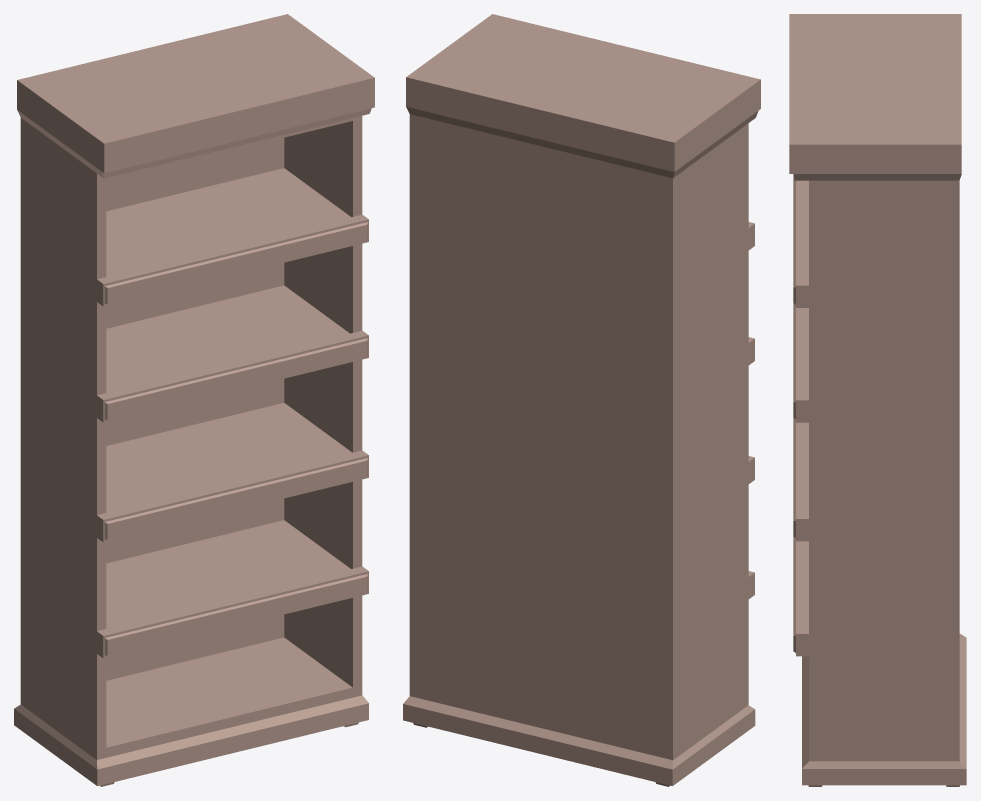
The model's file is bookcase_02.gltf.
3 views of the same model, side by side, from view 1: azimuth 30°, elevation 25°; view 2: azimuth 150°, elevation 25°; view 3: azimuth 270°, elevation 25° (orthographic).
Visible parts, largest first — view 1: node-0; view 2: node-0; view 3: node-0.
Boxes of the visible parts, x1,y1,x2,y2 form: node-0: (14,14,374,786); node-0: (403,14,760,786); node-0: (789,14,966,786).
Bounding box in the file's own units: 20.63 × 47.3 × 11.77.
